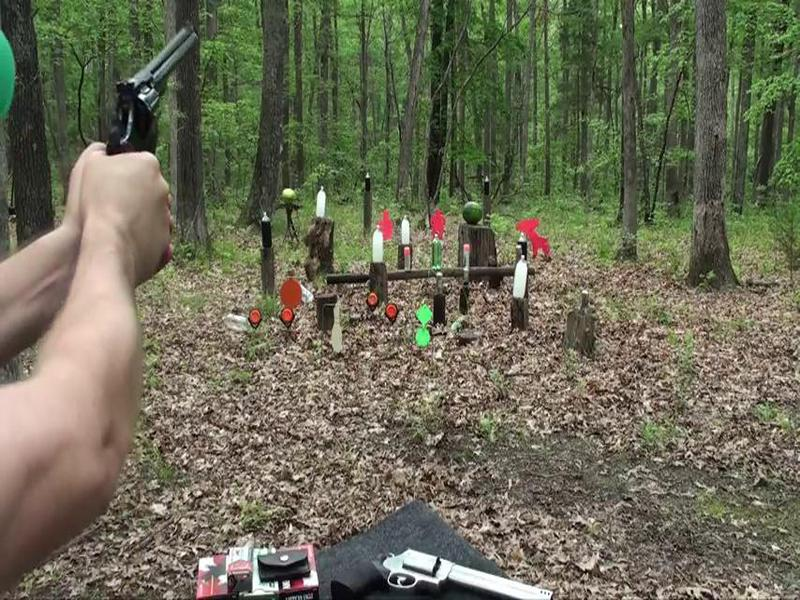Revolver: (81, 10, 232, 184)
